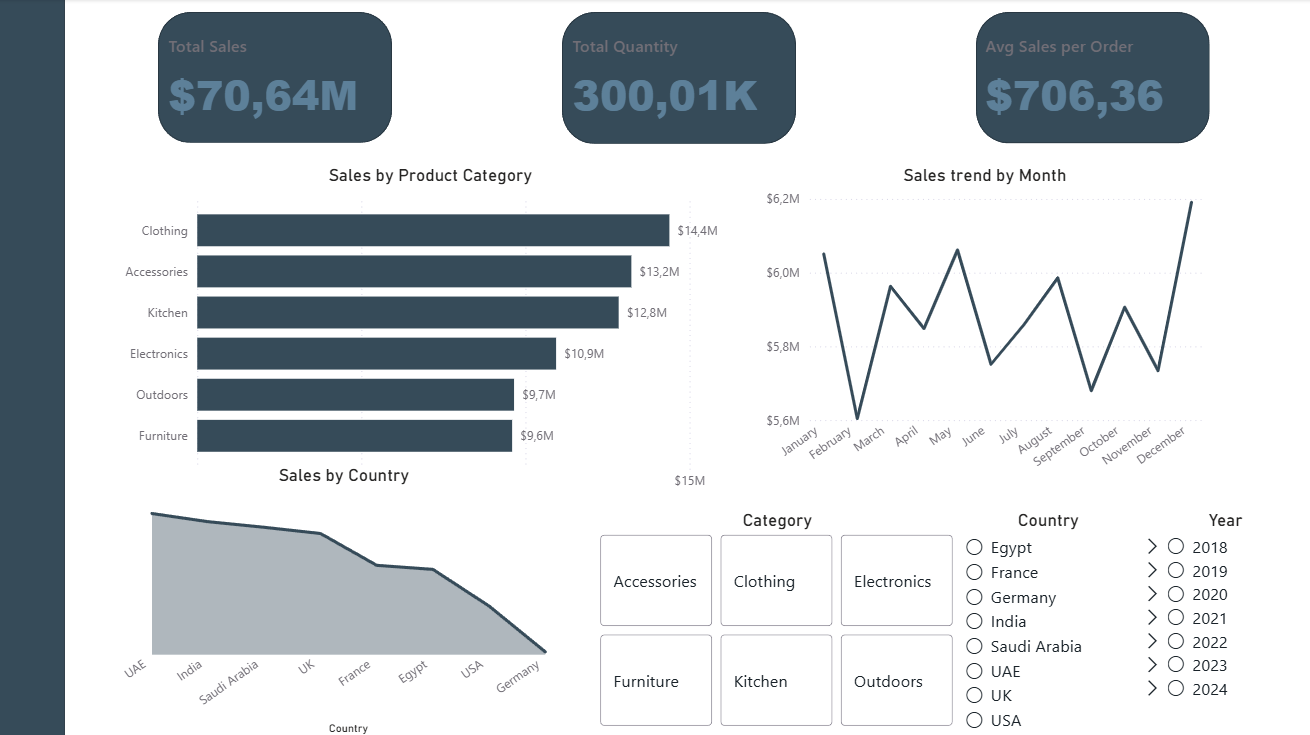

The dashboard page shown, as its layout file describes it:
{"tool":"powerbi","page":{"name":"Exec. Dashboard","canvas":[1280,720],"ordinal":0},"visuals":[{"type":"shape","box":[155.6,13,227.6,127.4],"z":0},{"type":"shape","box":[548.6,12.6,227.6,128.4],"z":1000},{"type":"shape","box":[950.8,12.8,227.5,127.7],"z":2000},{"type":"shape","box":[0,0,65.2,719.8],"z":3000},{"type":"cardVisual","fields":{"Data":["DimCustomer.Total Sales"]},"box":[148.8,6.8,240.2,140.1],"z":4000},{"type":"cardVisual","fields":{"Data":["DimCustomer.Total Quantity"]},"box":[541.8,6.8,240.2,140.1],"z":5000},{"type":"cardVisual","fields":{"Data":["DimCustomer.Avg Sales per Order"]},"box":[943.5,6.8,315.1,140.1],"z":6000},{"type":"clusteredBarChart","title":"Sales by Product Category","fields":{"Category":["DimProduct.Category"],"Y":["DimCustomer.Total Sales"]},"box":[113.8,161.5,613.7,324.9],"z":7000},{"type":"lineChart","title":"Sales trend by Month","fields":{"Category":["FactSales.OrderDateKey.Variation.Date Hierarchy.Month"],"Y":["DimCustomer.Total Sales"]},"box":[741.2,161.5,437.7,316.1],"z":8000},{"type":"listSlicer","fields":{"Values":["FactSales.OrderDateKey.Variation.Date Hierarchy.Year","FactSales.OrderDateKey.Variation.Date Hierarchy.Quarter","FactSales.OrderDateKey.Variation.Date Hierarchy.Month","FactSales.OrderDateKey.Variation.Date Hierarchy.Day"]},"box":[1107.8,497,172.2,215.9],"z":9000},{"type":"advancedSlicerVisual","fields":{"Values":["DimProduct.Category"]},"box":[580.7,497,355,215.9],"z":10000},{"type":"listSlicer","fields":{"Values":["DimGeography.Country"]},"box":[935.7,497,172.2,222.7],"z":11000},{"type":"stackedAreaChart","title":"Sales by Country","fields":{"Category":["DimGeography.Country"],"Y":["DimCustomer.Total Sales"]},"box":[113.8,453.3,445.5,266.5],"z":12000}]}

Visuals, with their boxes in screenshot pixels (x1, y1, x2, y2), scaled from the page's 1280x720 canvas onto the 1310x735 screenshot:
shape: detection(159, 13, 392, 143)
shape: detection(561, 13, 794, 144)
shape: detection(973, 13, 1206, 143)
shape: detection(0, 0, 67, 734)
cardVisual - DimCustomer.Total Sales: detection(152, 7, 398, 150)
cardVisual - DimCustomer.Total Quantity: detection(554, 7, 800, 150)
cardVisual - DimCustomer.Avg Sales per Order: detection(966, 7, 1288, 150)
"Sales by Product Category" clusteredBarChart: detection(116, 165, 745, 497)
"Sales trend by Month" lineChart: detection(759, 165, 1207, 488)
listSlicer - FactSales.OrderDateKey.Variation.Date Hierarchy.Year x FactSales.OrderDateKey.Variation.Date Hierarchy.Quarter: detection(1134, 507, 1309, 728)
advancedSlicerVisual - DimProduct.Category: detection(594, 507, 958, 728)
listSlicer - DimGeography.Country: detection(958, 507, 1134, 734)
"Sales by Country" stackedAreaChart: detection(116, 463, 572, 734)
